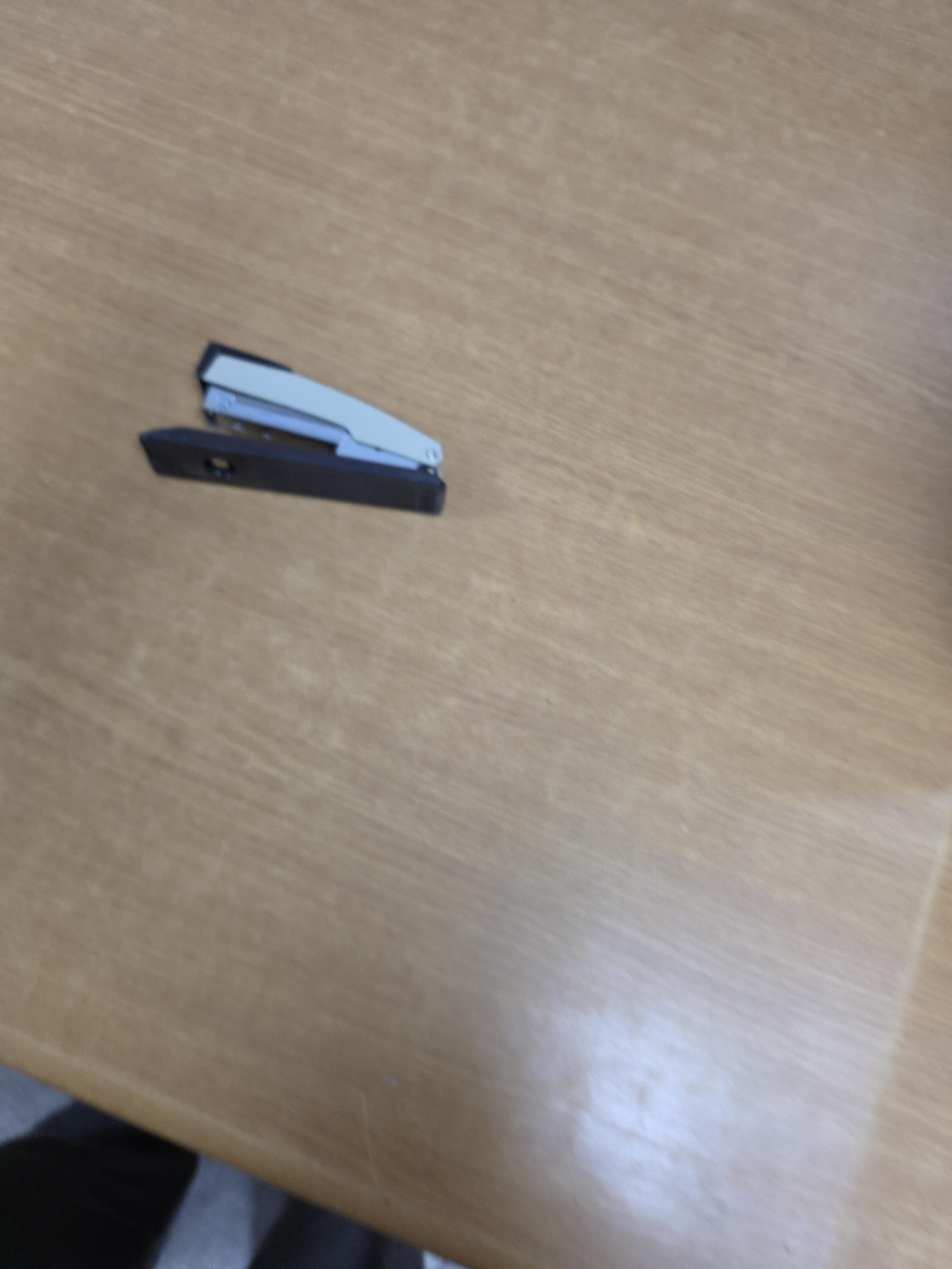stapler: (138, 342, 449, 515)
